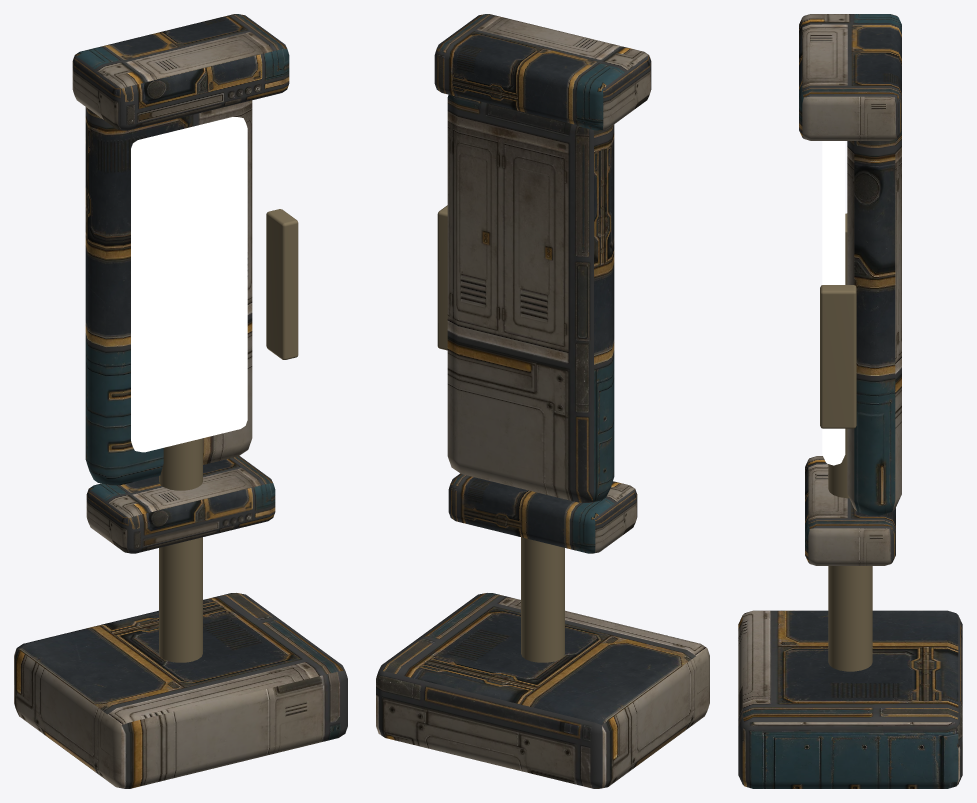
File: hp_light_residential_lamp_white.glb
3 views of the same model, side by side, from view 1: azimuth 30°, elevation 25°; view 2: azimuth 150°, elevation 25°; view 3: azimuth 270°, elevation 25° (orthographic).
Visible parts, largest first — view 1: bottom_cap_dark, front_glowing_lens, lamp_back_housing, small_side_handle; view 2: bottom_cap_dark, lamp_back_housing, small_side_handle; view 3: bottom_cap_dark, lamp_back_housing, small_side_handle, front_glowing_lens.
Part boxes in pixels (x1=…): bottom_cap_dark: x1=14, y1=14, x2=347, y2=788; front_glowing_lens: x1=131, y1=117, x2=247, y2=452; lamp_back_housing: x1=85, y1=100, x2=252, y2=485; small_side_handle: x1=159, y1=209, x2=298, y2=662; bottom_cap_dark: x1=376, y1=14, x2=709, y2=788; lamp_back_housing: x1=447, y1=95, x2=614, y2=502; small_side_handle: x1=437, y1=205, x2=564, y2=662; bottom_cap_dark: x1=738, y1=14, x2=962, y2=788; lamp_back_housing: x1=847, y1=131, x2=901, y2=515; small_side_handle: x1=820, y1=213, x2=872, y2=671; front_glowing_lens: x1=822, y1=141, x2=845, y2=465.
Size of the model in its own units: 0.5265 by 1.46 by 0.4343.
Materials: 4 (3 with a texture image).
